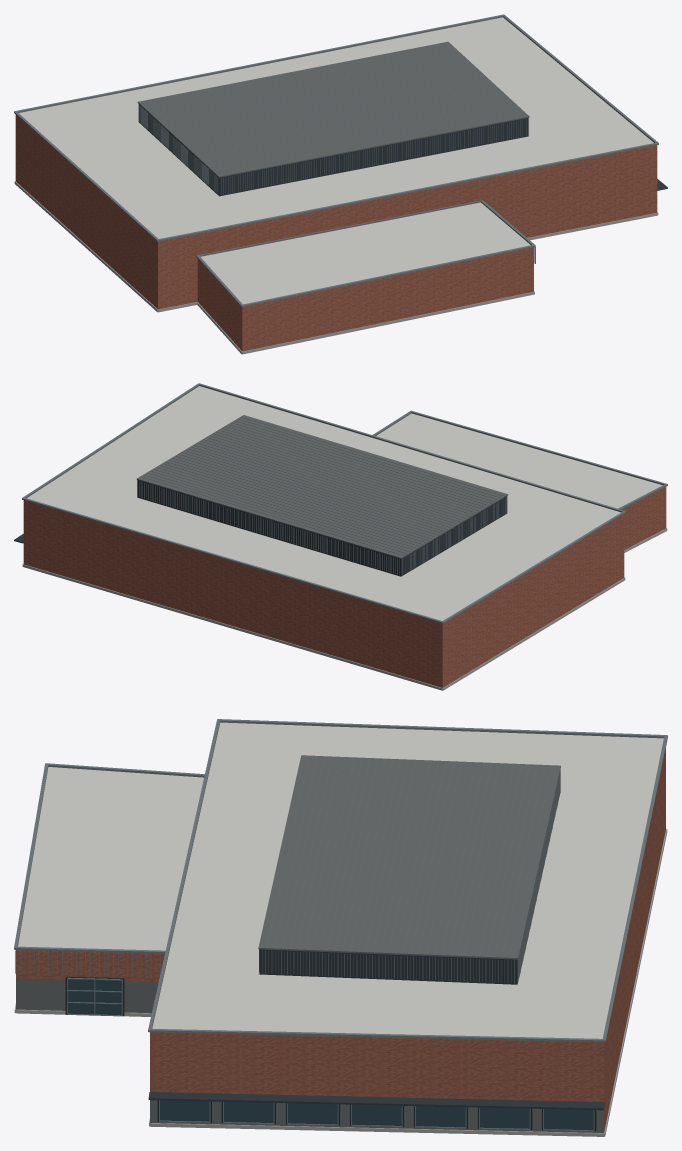
File: ole-miss-data-center-addition.glb
3 views of the same model, one above another, from view 1: azimuth 30°, elevation 25°; view 2: azimuth 150°, elevation 25°; view 3: azimuth 270°, elevation 25° (orthographic). The views are drawn at different scales.
Parts seen in each view (by area): view 1: North addition — precise roof-plan exterior shell, Roof — operator-photographed dark louver screen, Low connection to original wing — precise roof-plan exterior; view 2: North addition — precise roof-plan exterior shell, Roof — operator-photographed dark louver screen, Low connection to original wing — precise roof-plan exterior; view 3: North addition — precise roof-plan exterior shell, Roof — operator-photographed dark louver screen, Low connection to original wing — precise roof-plan exterior, North addition — photographed approach articulation, Low connection to original wing — photographed approach arti.
Boxes of the visible parts, x1,y1,x2,y2 form: North addition — precise roof-plan exterior shell: (14,14,658,312); Roof — operator-photographed dark louver screen: (137,41,529,196); Low connection to original wing — precise roof-plan exterior: (196,200,535,354); North addition — precise roof-plan exterior shell: (22,383,625,690); Roof — operator-photographed dark louver screen: (136,415,508,576); Low connection to original wing — precise roof-plan exterior: (372,410,667,552); North addition — precise roof-plan exterior shell: (148,719,667,1136); Roof — operator-photographed dark louver screen: (258,755,560,984); Low connection to original wing — precise roof-plan exterior: (14,763,204,1016); North addition — photographed approach articulation: (148,1092,604,1131); Low connection to original wing — photographed approach arti: (15,950,160,1016).
Bounding box in the file's own units: 56.29 × 9.76 × 47.55.
8 materials, 1 textured.
